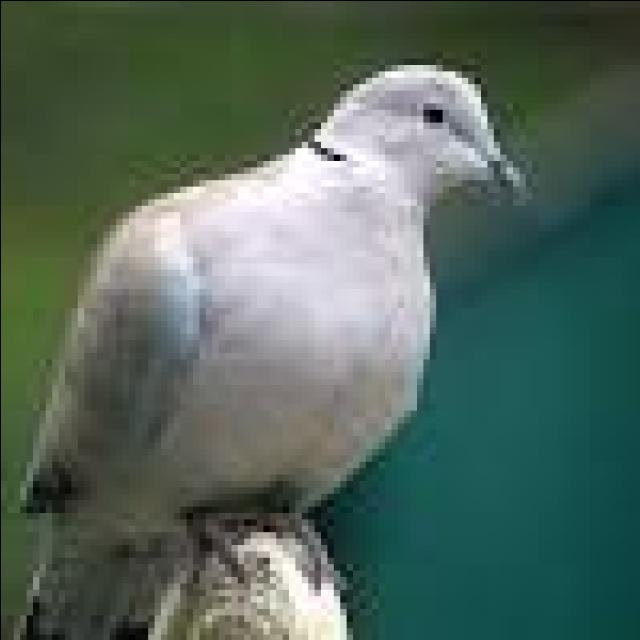pigeon: (0, 49, 527, 617)
